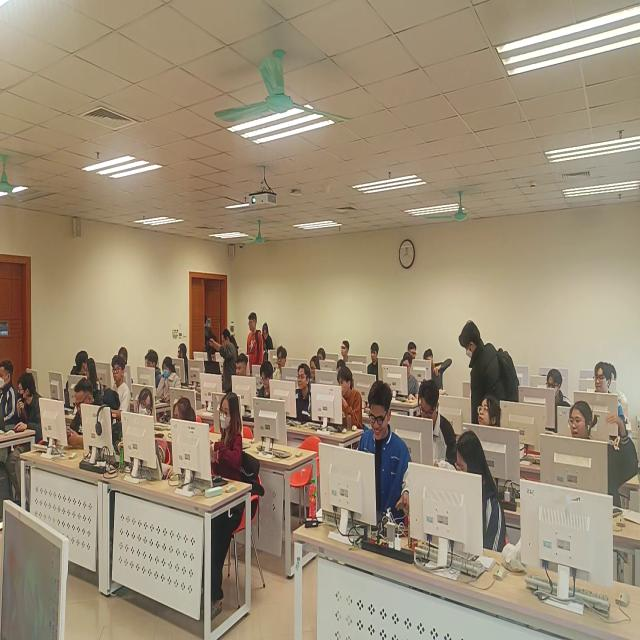raise_hand: (569, 399, 640, 521), (424, 343, 454, 397)
raise_head: (594, 359, 632, 435), (476, 385, 507, 441), (109, 357, 132, 422), (608, 361, 629, 417), (273, 342, 290, 393), (341, 334, 354, 367), (317, 342, 329, 367)
stand: (459, 319, 522, 439), (216, 323, 241, 393), (247, 311, 266, 379), (204, 308, 218, 367), (262, 320, 276, 361)
using_computer: (357, 381, 415, 545), (208, 392, 247, 508), (416, 372, 457, 482), (170, 393, 200, 486), (17, 363, 47, 454), (541, 370, 573, 444), (1, 356, 19, 474), (290, 363, 314, 433), (339, 367, 364, 434), (159, 355, 182, 410), (256, 358, 277, 410), (82, 360, 104, 408), (145, 347, 162, 400), (399, 352, 418, 399), (308, 353, 325, 391), (178, 338, 193, 378), (367, 342, 382, 381), (236, 353, 249, 392), (117, 346, 132, 371)
using_phone: (61, 377, 112, 457)
